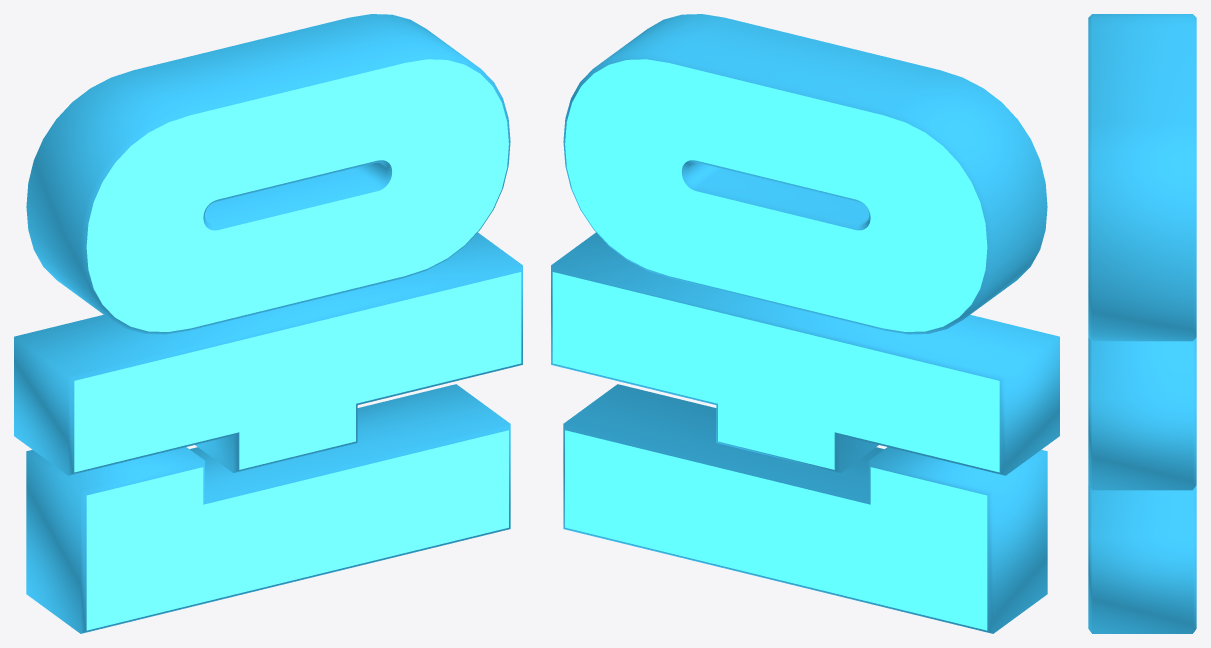
3 views of the same model, side by side, from view 1: azimuth 30°, elevation 25°; view 2: azimuth 150°, elevation 25°; view 3: azimuth 270°, elevation 25° (orthographic). The views are drawn at different scales.
Visible parts, largest first — view 1: glyph; view 2: glyph; view 3: glyph.
Part boxes in pixels (x1=…): glyph: x1=14, y1=14, x2=522, y2=633; glyph: x1=551, y1=14, x2=1059, y2=633; glyph: x1=1088, y1=14, x2=1196, y2=633.
Size of the model in its own units: 0.0726 by 0.076 by 0.0162.
